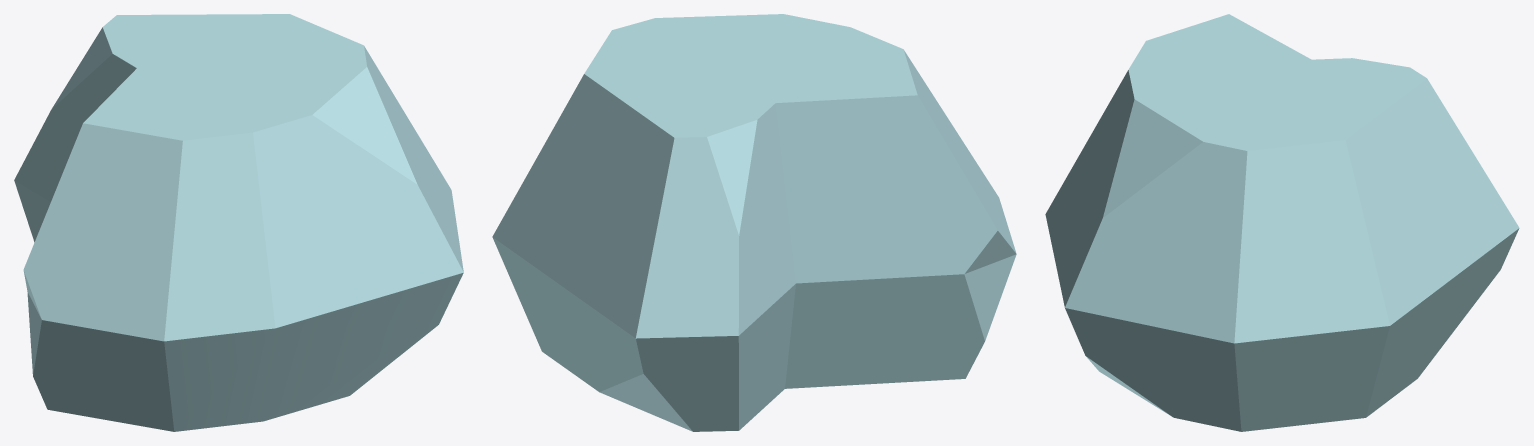
Rendered from support1.fbx.
3 renders of one model, left to right at view 1: azimuth 30°, elevation 25°; view 2: azimuth 150°, elevation 25°; view 3: azimuth 270°, elevation 25°, orthographic. The views are drawn at different scales.
Parts seen in each view (by area): view 1: mergedBlocks; view 2: mergedBlocks; view 3: mergedBlocks.
Part boxes in pixels (x1,y1,x2,y2): mergedBlocks: (14,14,463,431); mergedBlocks: (492,14,1016,431); mergedBlocks: (1045,14,1519,431).
Size of the model in its own units: 9.62 by 5.68 by 9.27.
